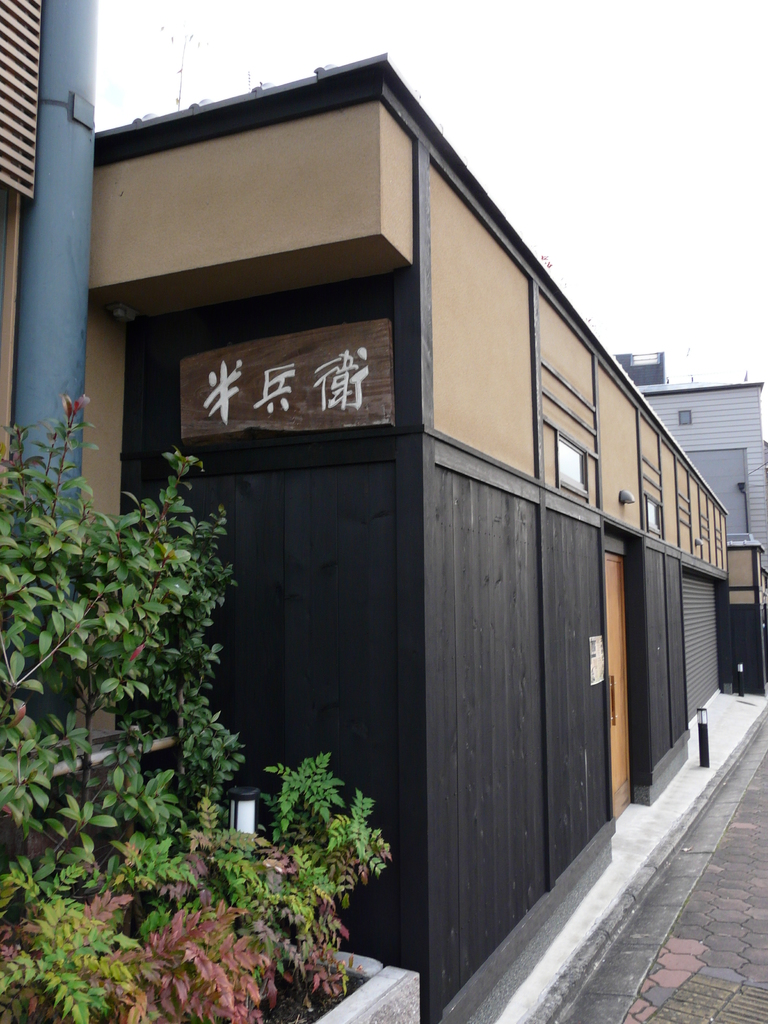Door: (596, 548, 639, 826)
